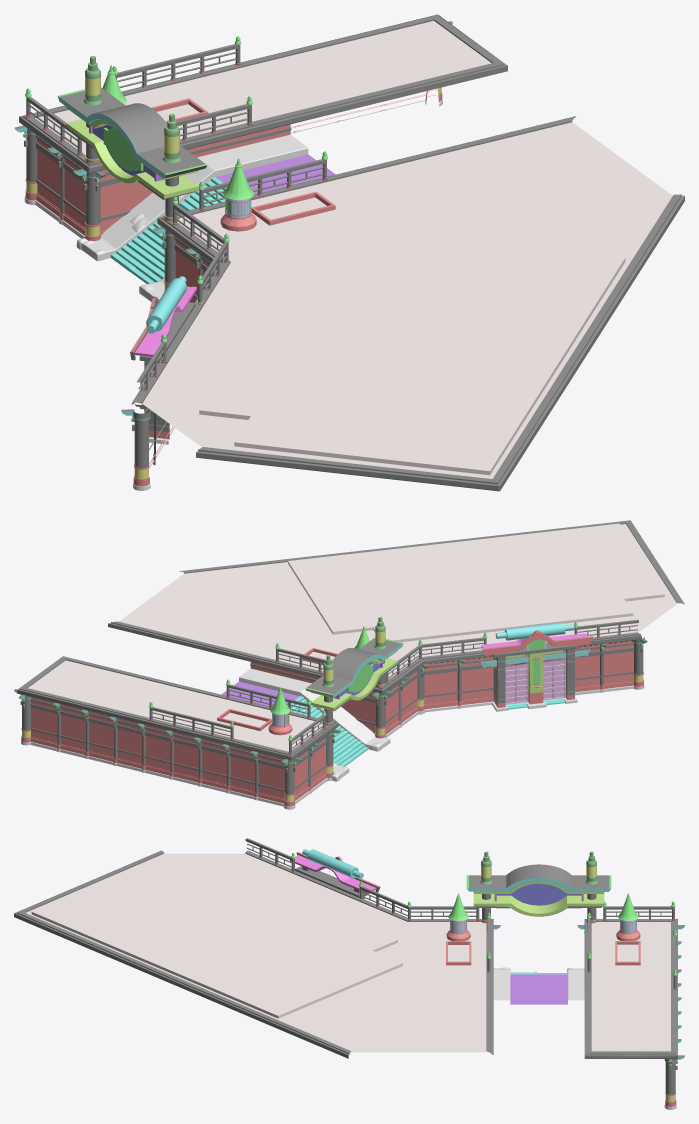
File: SM_ENV_LKNVLD_VRArena_Front_Lod1.gltf
3 views of the same model, one above another, from view 1: azimuth 30°, elevation 25°; view 2: azimuth 150°, elevation 25°; view 3: azimuth 270°, elevation 25° (orthographic). The views are drawn at different scales.
Parts seen in each view (by area): view 1: SM_ENV_LKNVLD_VRArena_Front_Lod1; view 2: SM_ENV_LKNVLD_VRArena_Front_Lod1; view 3: SM_ENV_LKNVLD_VRArena_Front_Lod1.
Part boxes in pixels (x1,y1,x2,y2): SM_ENV_LKNVLD_VRArena_Front_Lod1: (14, 14, 684, 491); SM_ENV_LKNVLD_VRArena_Front_Lod1: (14, 520, 684, 809); SM_ENV_LKNVLD_VRArena_Front_Lod1: (14, 838, 684, 1109).
Size of the model in its own units: 49.16 by 13.62 by 66.23.
